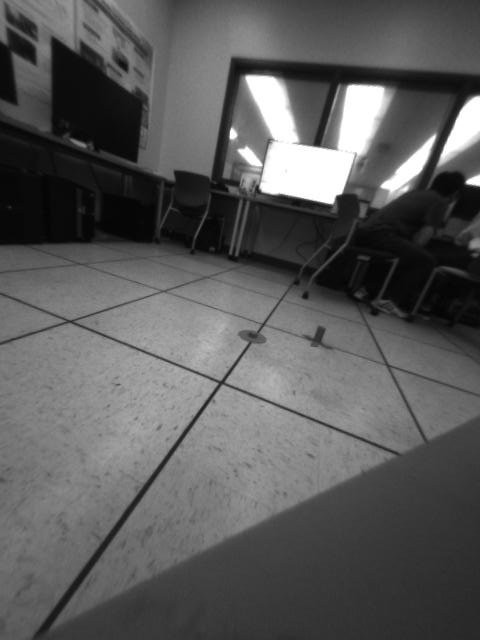X: (302, 326, 334, 350)
